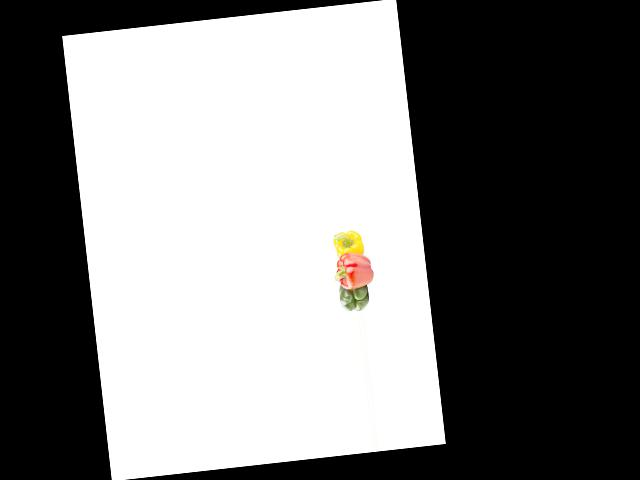bell_pepper: (329, 226, 370, 261)
